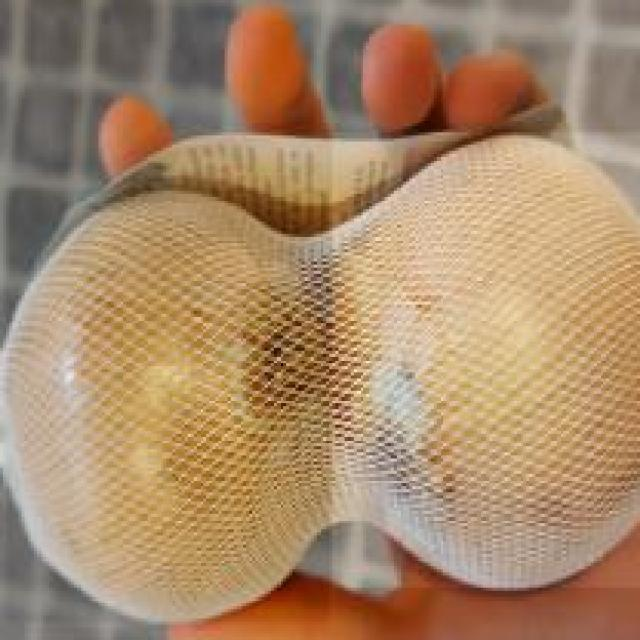onion: (4, 188, 333, 624), (332, 132, 640, 591)
